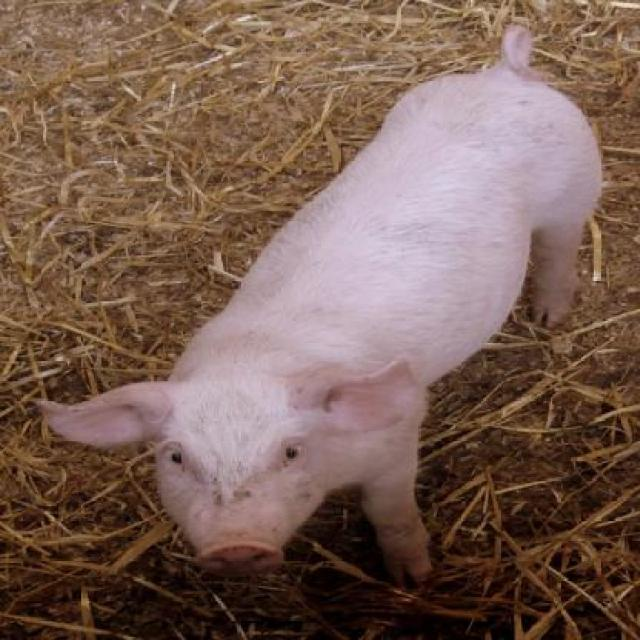pig: (29, 22, 604, 580)
